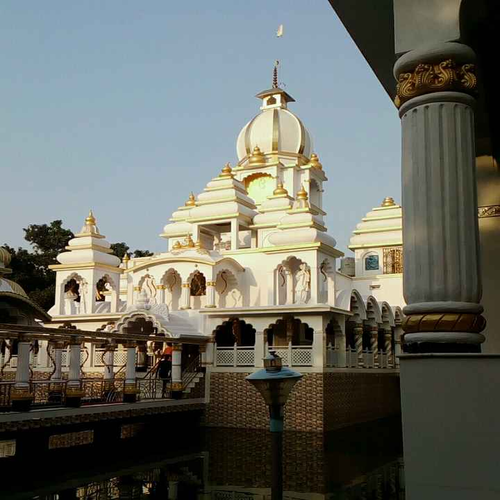Temple: (55, 65, 369, 377)
